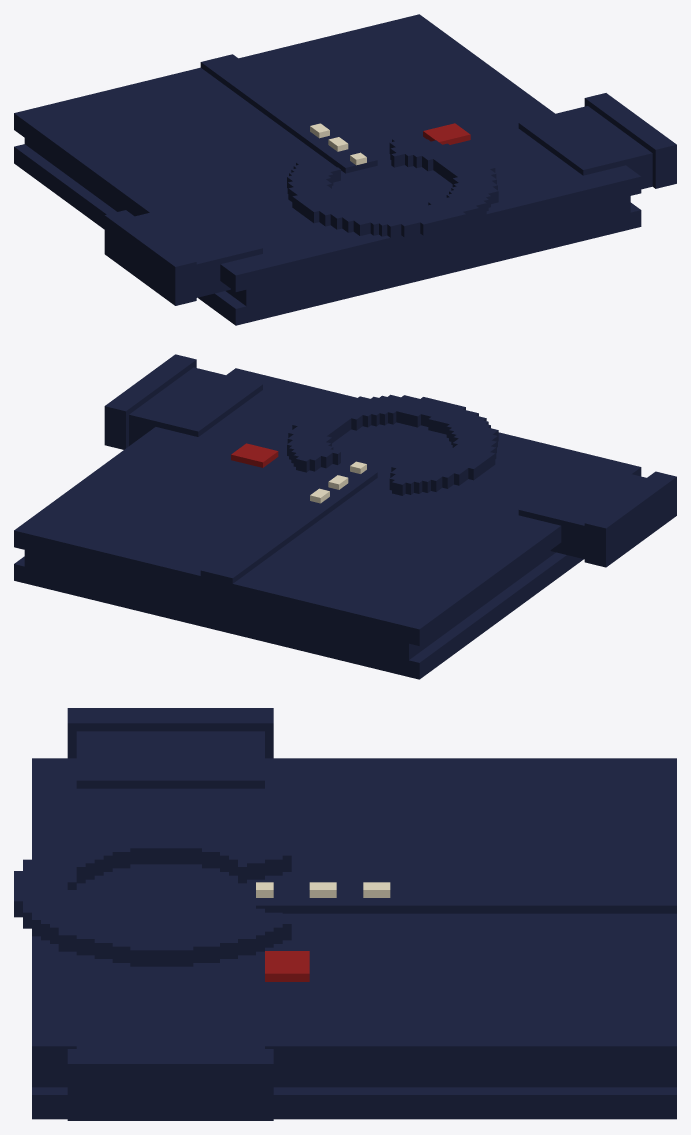
File: polo_shirt.glb
3 renders of one model, top to bottom at view 1: azimuth 30°, elevation 25°; view 2: azimuth 150°, elevation 25°; view 3: azimuth 270°, elevation 25°, orthographic. The views are drawn at different scales.
Visible parts, largest first — view 1: polo_shirt:compound; view 2: polo_shirt:compound; view 3: polo_shirt:compound.
Boxes of the visible parts, x1,y1,x2,y2 form: polo_shirt:compound: (14,14,676,325); polo_shirt:compound: (14,354,676,679); polo_shirt:compound: (14,708,676,1120).
Size of the model in its own units: 0.376 by 0.044 by 0.296.
